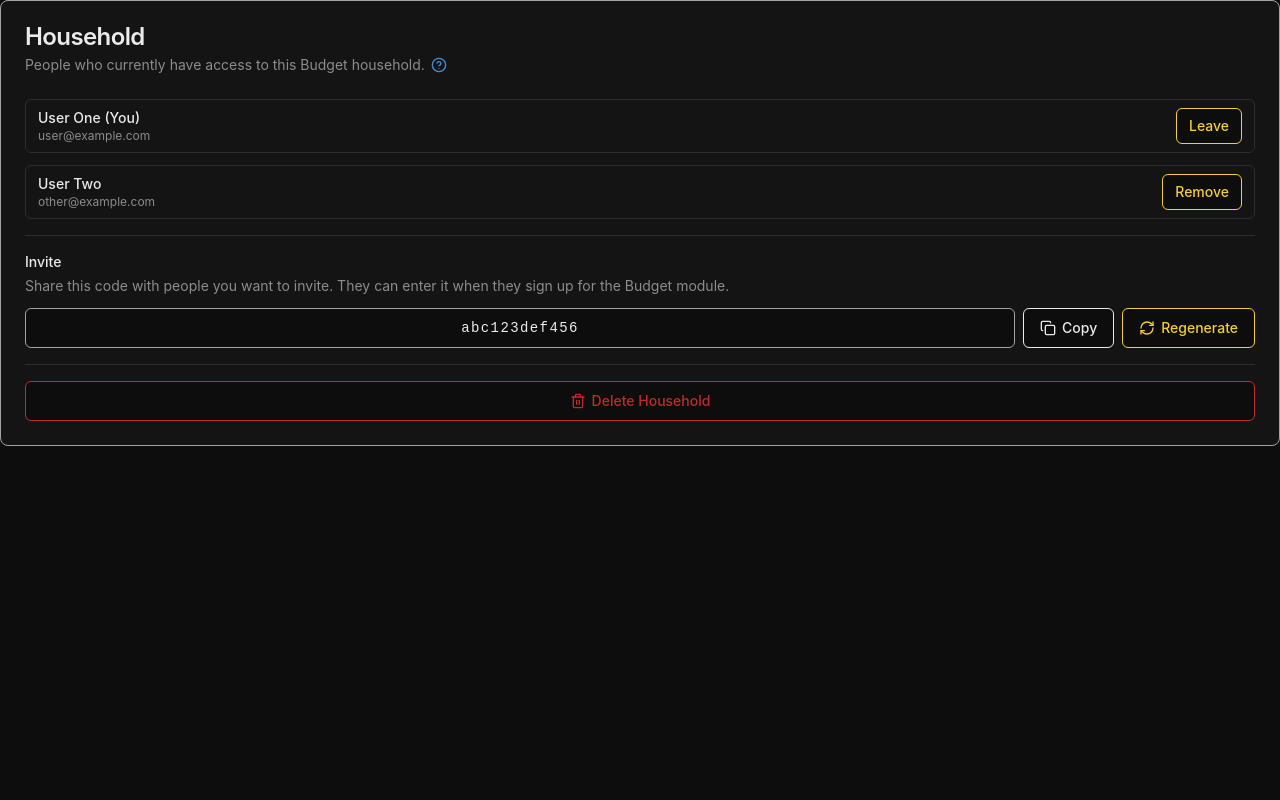
Test: HouseholdManagementPanel › opens remove-member confirmation and submits remove action
Later steps or results of the test are not shown.
Click the button "Remove" at (1202, 192), box [1162, 174, 1242, 210]
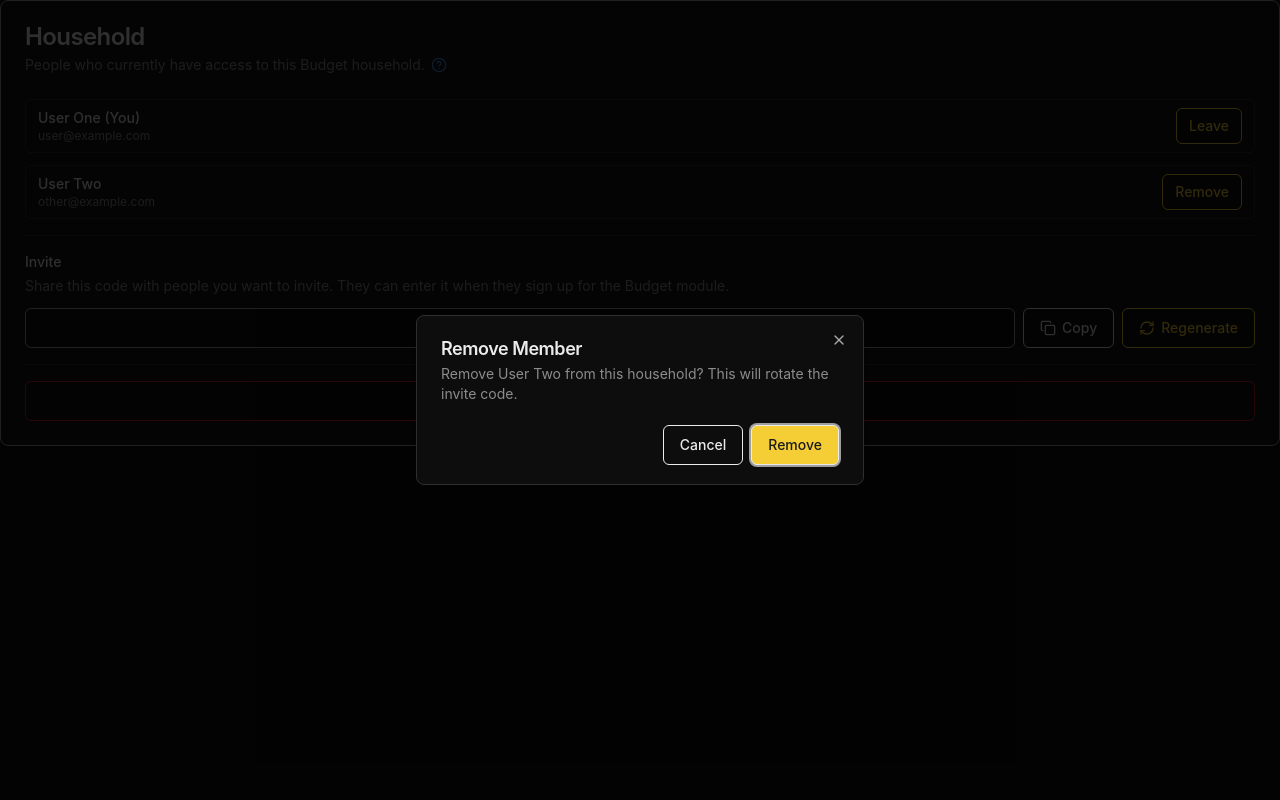
Check: the dialog is shown, box [416, 315, 864, 485]
Check: the button "Remove" is shown, box [751, 425, 839, 465]
